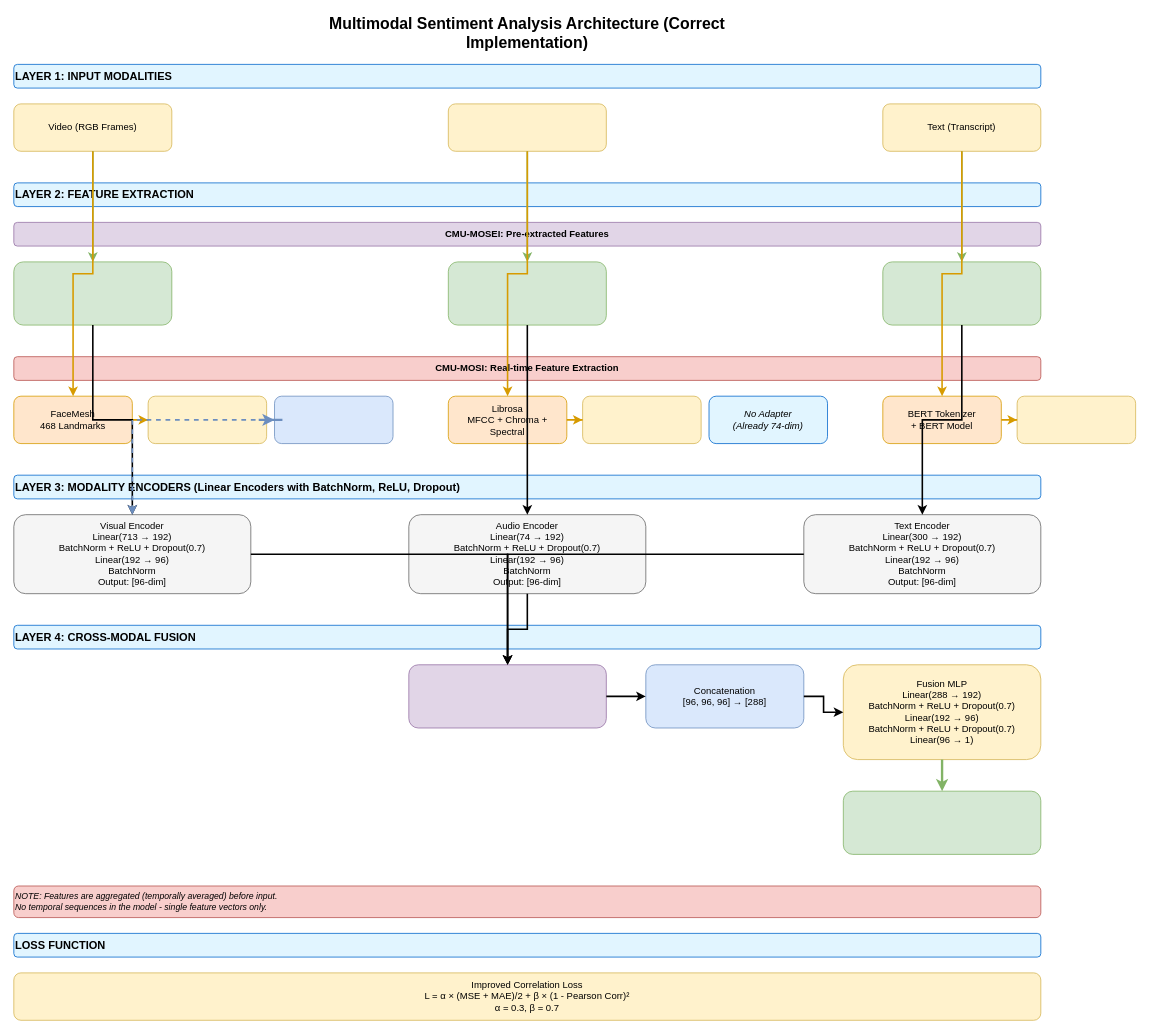
The diagram is 1149 pixels wide and 1034 high, and some of its shapes have lost their labels. Each missing label, with the centre of its shape:
"Audio (Waveform)" belongs at point (527, 127).
"Audio Features [74-dim]" belongs at point (641, 419).
"BERT Embeddings [768-dim]" belongs at point (1076, 419).
"COVAREP Audio Features [74-dim]" belongs at point (527, 293).
"Emotion Features [65-dim]" belongs at point (207, 419).
"Feature Adapter [65 → 713]" belongs at point (333, 419).
"GloVe Text Features [300-dim]" belongs at point (961, 293).
"MultiheadAttention (4 heads, dropout=0.8) Stack features: [3 × 96]" belongs at point (507, 696).
"OpenFace2 Visual Features [713-dim]" belongs at point (92, 293).
"Sentiment Score Single Regression Output Range: [-3, +3]" belongs at point (942, 822).
